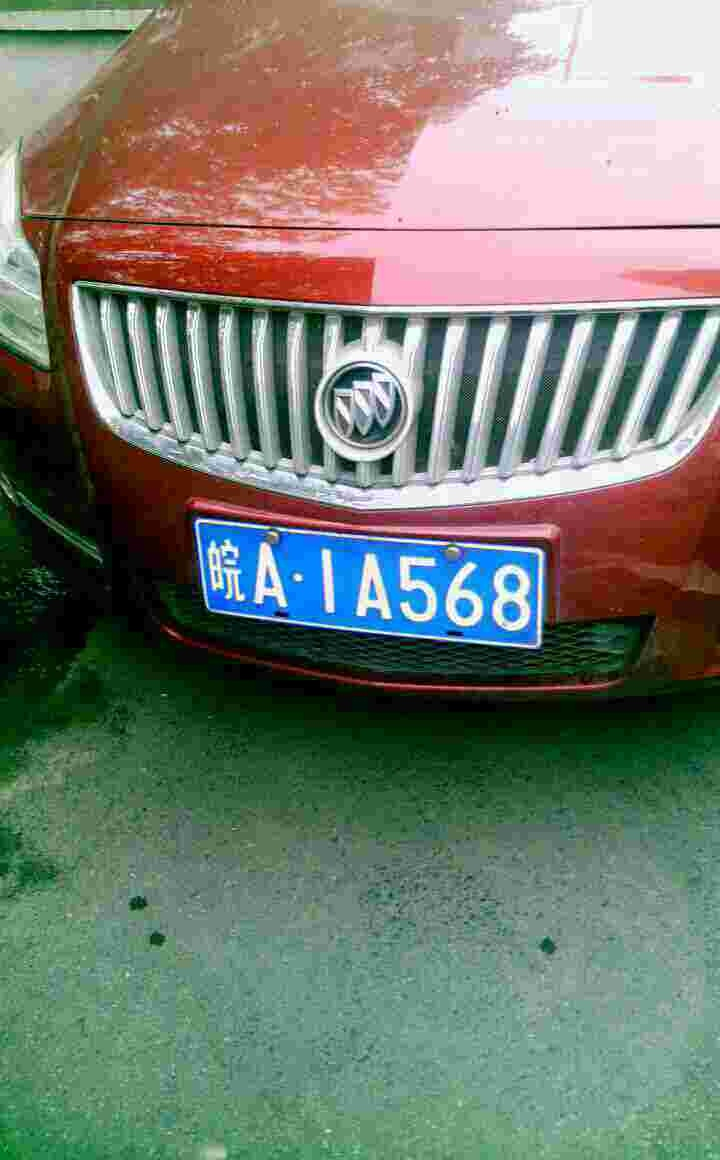license_plate: (206, 510, 538, 644)
